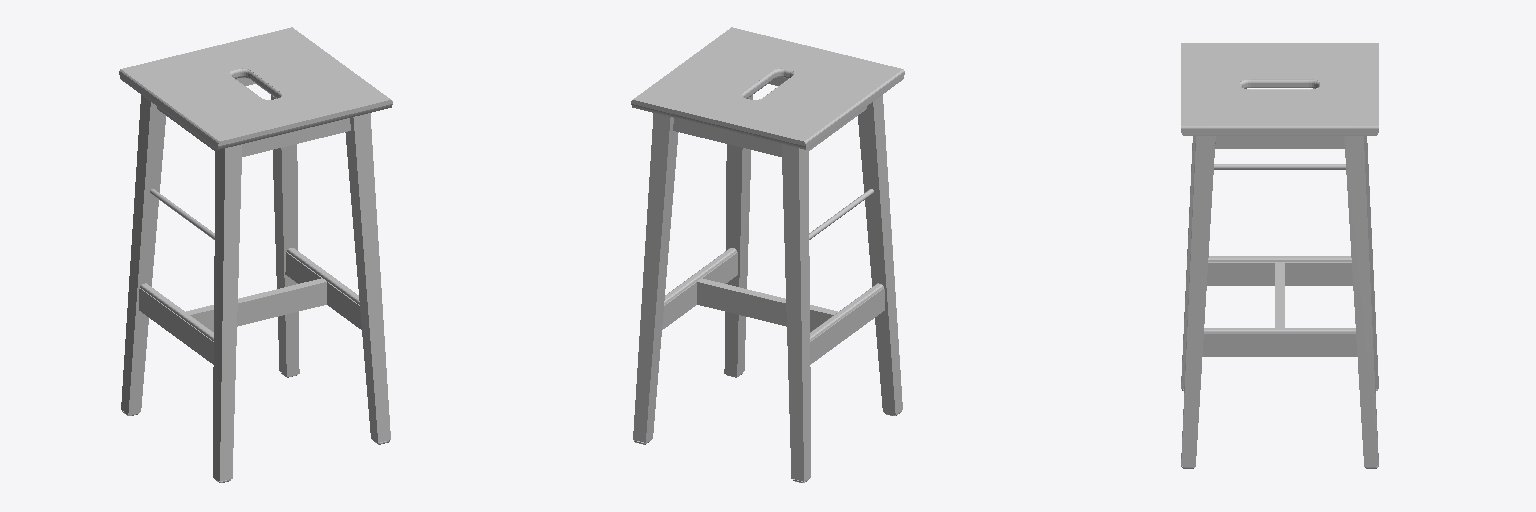
File: Stool.obj
The picture shows the model from 3 angles: view 1: azimuth 30°, elevation 25°; view 2: azimuth 150°, elevation 25°; view 3: azimuth 270°, elevation 25°; orthographic projection.
Visible parts, largest first — view 1: NILSOLLE bar stool | IKEA_Wood.001, NILSOLLE bar stool | IKEA_Metal_chrome; view 2: NILSOLLE bar stool | IKEA_Wood.001, NILSOLLE bar stool | IKEA_Metal_chrome; view 3: NILSOLLE bar stool | IKEA_Wood.001, NILSOLLE bar stool | IKEA_Metal_chrome.
Boxes of the visible parts, x1,y1,x2,y2 form: NILSOLLE bar stool | IKEA_Wood.001: [119, 27, 392, 481]; NILSOLLE bar stool | IKEA_Metal_chrome: [140, 189, 359, 340]; NILSOLLE bar stool | IKEA_Wood.001: [631, 27, 904, 481]; NILSOLLE bar stool | IKEA_Metal_chrome: [664, 189, 883, 340]; NILSOLLE bar stool | IKEA_Wood.001: [1181, 43, 1378, 466]; NILSOLLE bar stool | IKEA_Metal_chrome: [1204, 164, 1355, 333].
Bounding box in the file's own units: 0.3962 × 0.7451 × 0.39.